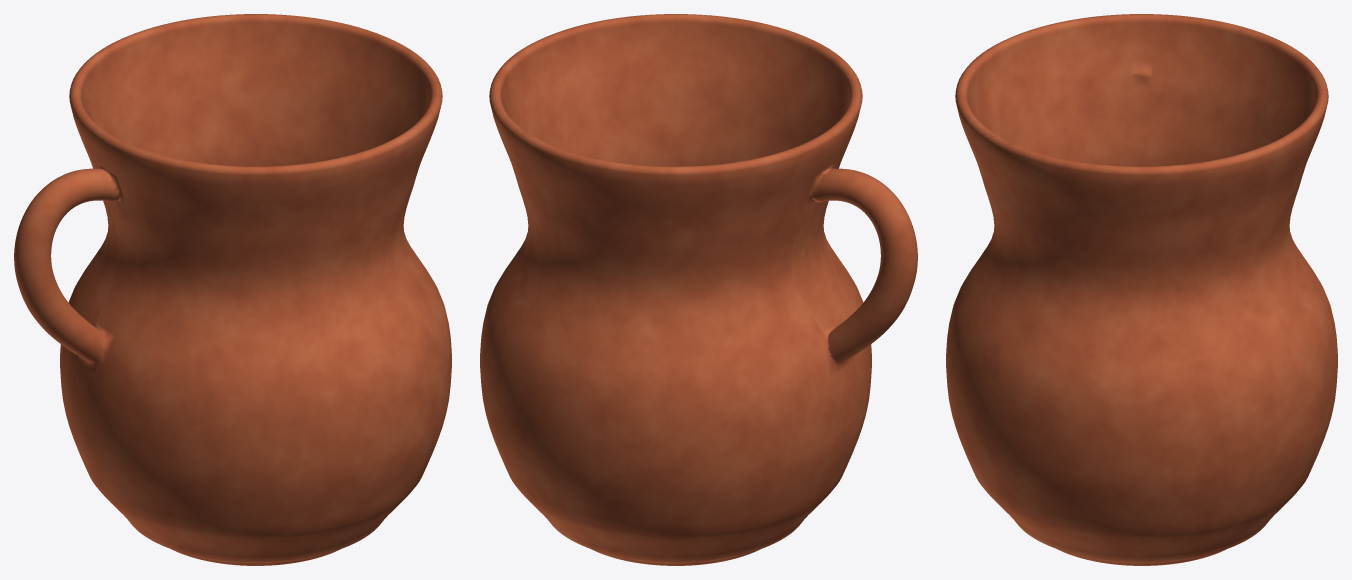
The model's file is jarro_cafe.gltf.
The picture shows the model from 3 angles, left to right: view 1: azimuth 30°, elevation 25°; view 2: azimuth 150°, elevation 25°; view 3: azimuth 270°, elevation 25°; orthographic projection.
Parts seen in each view (by area): view 1: jarro_barro; view 2: jarro_barro; view 3: jarro_barro.
Part boxes in pixels (box(x1,y1,x2,y2)): jarro_barro: box(14, 14, 451, 565); jarro_barro: box(480, 14, 917, 565); jarro_barro: box(946, 14, 1337, 565).
Size of the model in its own units: 0.1367 by 0.1367 by 0.1134.
Materials: 1 (1 with a texture image).
